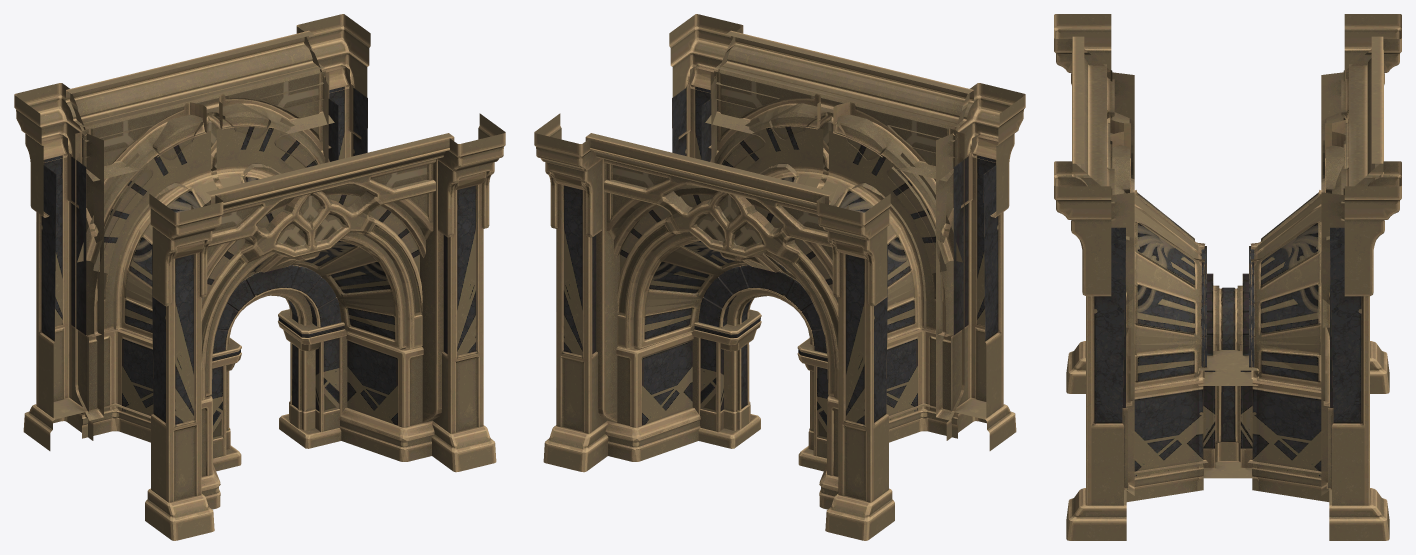
The model's file is ArchDoor_01_Lod1.fbx.
3 renders of one model, left to right at view 1: azimuth 30°, elevation 25°; view 2: azimuth 150°, elevation 25°; view 3: azimuth 270°, elevation 25°, orthographic. The views are drawn at different scales.
Parts seen in each view (by area): view 1: S_Sunforged_ArchDoor_01_Lod1.mo; view 2: S_Sunforged_ArchDoor_01_Lod1.mo; view 3: S_Sunforged_ArchDoor_01_Lod1.mo.
Part boxes in pixels (x1,y1,x2,y2): S_Sunforged_ArchDoor_01_Lod1.mo: (14,14,505,540); S_Sunforged_ArchDoor_01_Lod1.mo: (534,14,1025,540); S_Sunforged_ArchDoor_01_Lod1.mo: (1054,14,1401,540).
Bounding box in the file's own units: 1122 × 1082 × 958.
Materials: 1 (1 with a texture image).
